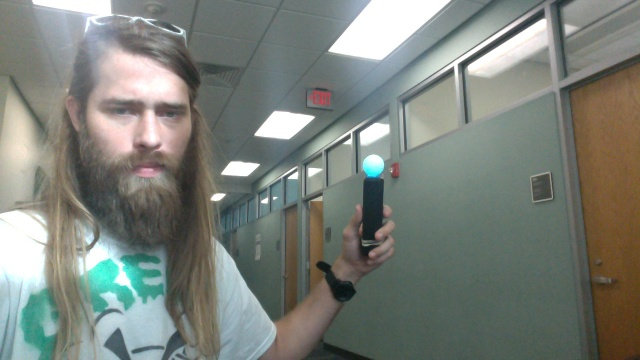wand: (364, 155, 384, 177)
